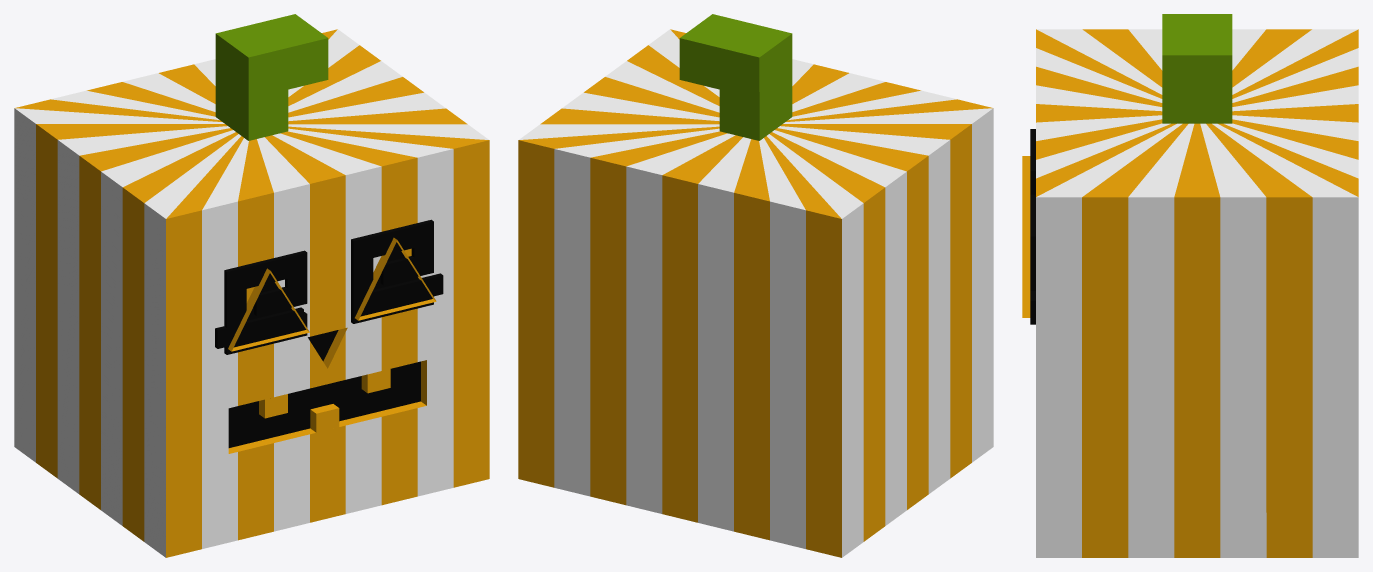
The picture shows the model from 3 angles, left to right: view 1: azimuth 30°, elevation 25°; view 2: azimuth 150°, elevation 25°; view 3: azimuth 270°, elevation 25°; orthographic projection. The views are drawn at different scales.
Parts seen in each view (by area): view 1: Ch_48, Ch_48_Eye_03_R, Ch_48_Eye_03_L; view 2: Ch_48; view 3: Ch_48, Ch_48_Eye_03_R.
Part boxes in pixels (x1,y1,x2,y2): Ch_48: (14, 14, 489, 557); Ch_48_Eye_03_R: (351, 219, 433, 323); Ch_48_Eye_03_L: (224, 250, 307, 354); Ch_48: (518, 14, 993, 557); Ch_48: (1022, 14, 1358, 557); Ch_48_Eye_03_R: (1030, 194, 1035, 324).
Size of the model in its own units: 7.68 by 9.58 by 6.5.
